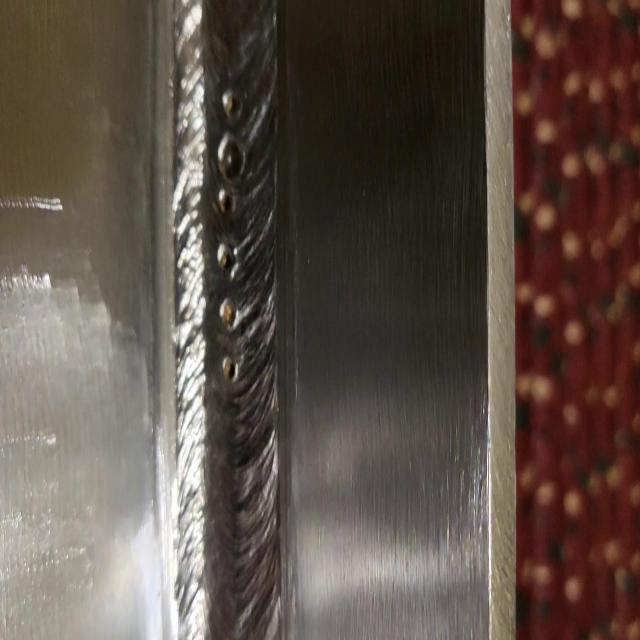Welding Line: (175, 2, 279, 640)
Workpiece: (2, 4, 516, 640)
porosity: (217, 87, 244, 384)
